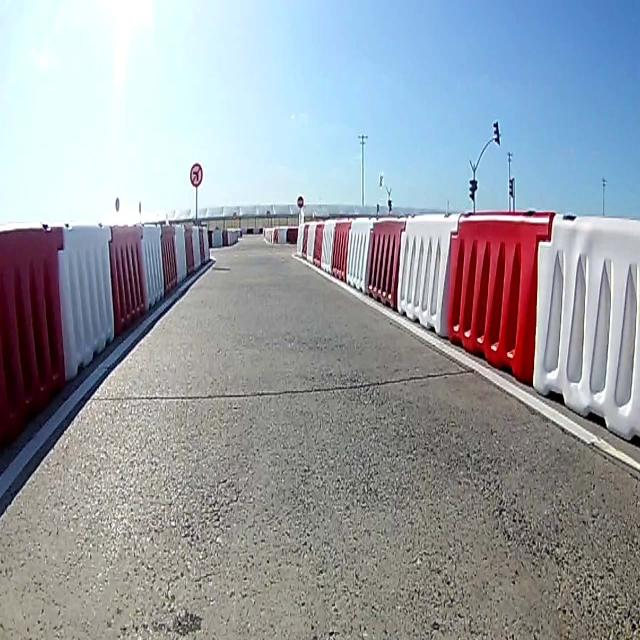girisyok: (298, 192, 304, 206)
soladonulmez: (189, 162, 203, 186)
